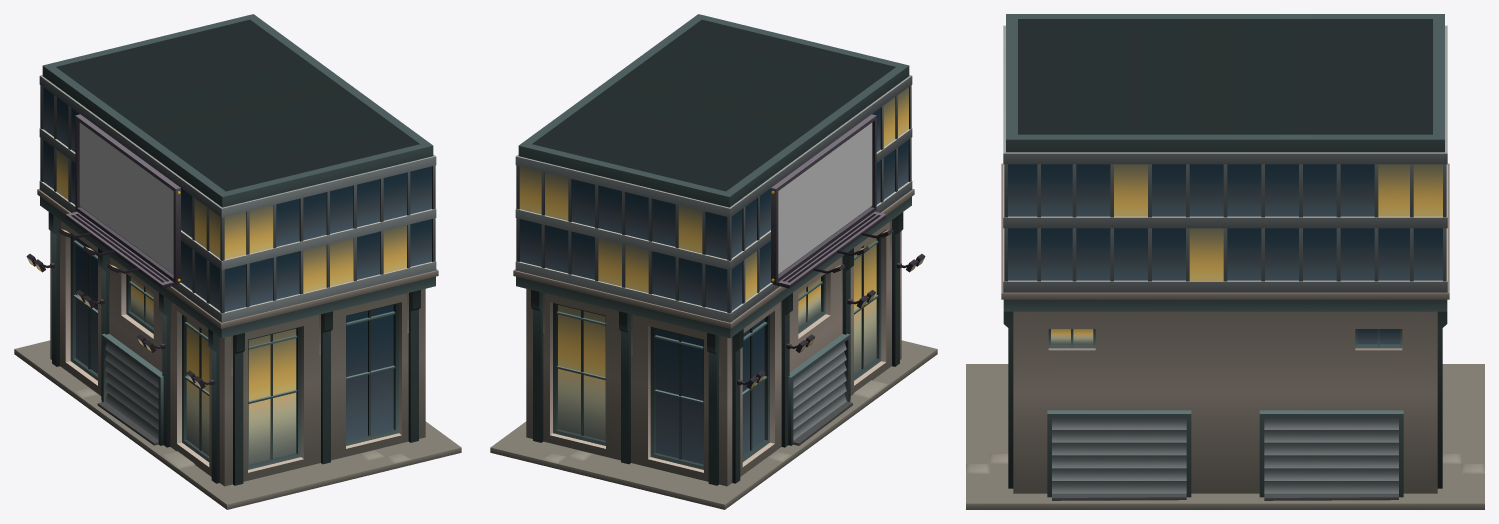
Rendered from Warehouse_5B.fbx.
3 renders of one model, left to right at view 1: azimuth 30°, elevation 25°; view 2: azimuth 150°, elevation 25°; view 3: azimuth 270°, elevation 25°, orthographic. The views are drawn at different scales.
Parts seen in each view (by area): view 1: Warehouse_5B, Warehouse_5B_Window_Lights, Warehouse_5B_Logo; view 2: Warehouse_5B, Warehouse_5B_Window_Lights, Warehouse_5B_Logo; view 3: Warehouse_5B, Warehouse_5B_Window_Lights.
Boxes of the visible parts, <box> form: Warehouse_5B: <box>14,14,461,509</box>; Warehouse_5B_Window_Lights: <box>56,150,406,464</box>; Warehouse_5B_Logo: <box>79,122,173,273</box>; Warehouse_5B: <box>490,14,937,509</box>; Warehouse_5B_Window_Lights: <box>519,87,908,440</box>; Warehouse_5B_Logo: <box>778,122,872,273</box>; Warehouse_5B: <box>966,14,1484,509</box>; Warehouse_5B_Window_Lights: <box>1051,164,1442,344</box>.
Bounding box in the file's own units: 16.15 × 17 × 22.
